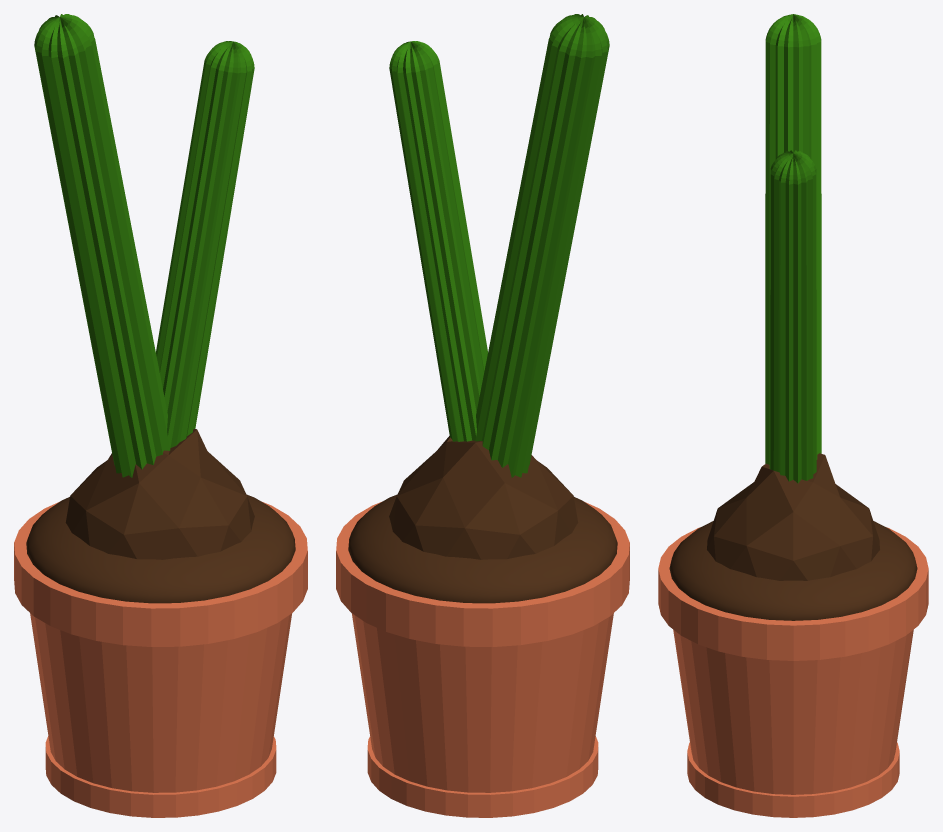
The model's file is Cactus1.fbx.
3 views of the same model, side by side, from view 1: azimuth 30°, elevation 25°; view 2: azimuth 150°, elevation 25°; view 3: azimuth 270°, elevation 25° (orthographic). The views are drawn at different scales.
Parts seen in each view (by area): view 1: Vase.001, Sphere.002, Sphere.003, Icosphere.001, Sphere.001; view 2: Vase.001, Sphere.002, Sphere.003, Icosphere.001, Sphere.001; view 3: Vase.001, Sphere.003, Icosphere.001, Sphere.001, Sphere.002.
Boxes of the visible parts, <box> form: Vase.001: <box>14,502,307,817</box>; Sphere.002: <box>34,14,170,477</box>; Sphere.003: <box>156,41,254,448</box>; Icosphere.001: <box>65,429,254,559</box>; Sphere.001: <box>26,494,295,603</box>; Vase.001: <box>336,502,629,817</box>; Sphere.002: <box>475,14,609,477</box>; Sphere.003: <box>389,41,487,441</box>; Icosphere.001: <box>389,436,578,559</box>; Sphere.001: <box>348,494,617,603</box>; Vase.001: <box>658,527,928,817</box>; Sphere.003: <box>770,150,816,483</box>; Icosphere.001: <box>707,453,879,580</box>; Sphere.001: <box>669,521,917,620</box>; Sphere.002: <box>765,14,821,468</box>.
Bounding box in the file's own units: 218 × 634 × 218.
